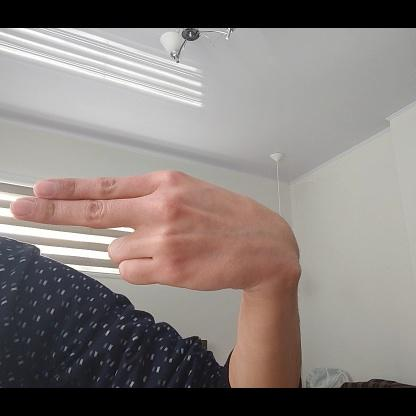H: (13, 172, 303, 289)
